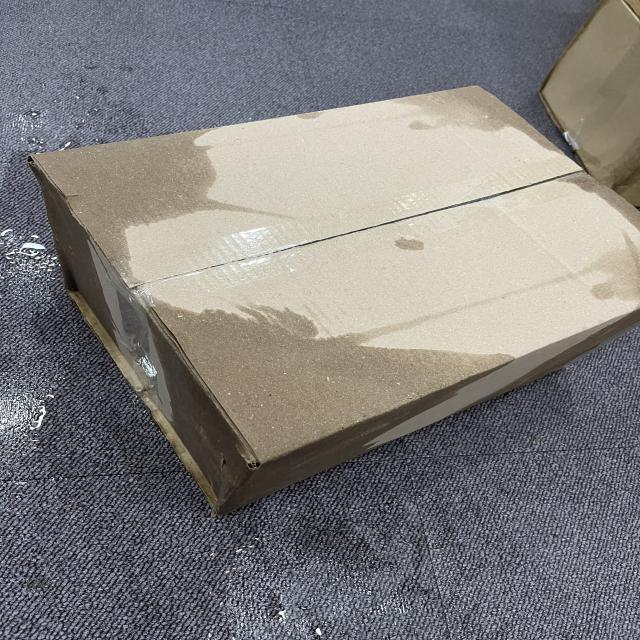wet: (147, 291, 481, 489), (20, 109, 242, 265), (401, 69, 540, 145)
